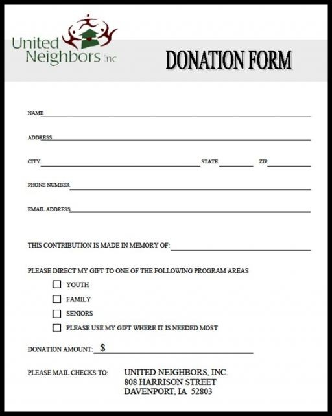checkbox: (49, 278, 62, 289), (51, 308, 62, 320), (51, 322, 62, 334), (51, 294, 62, 305)
textline: (43, 101, 312, 121), (72, 198, 312, 214), (52, 130, 315, 142), (71, 179, 311, 192), (41, 153, 201, 168), (107, 341, 256, 356), (170, 237, 313, 252), (268, 155, 312, 168), (217, 155, 255, 168)
